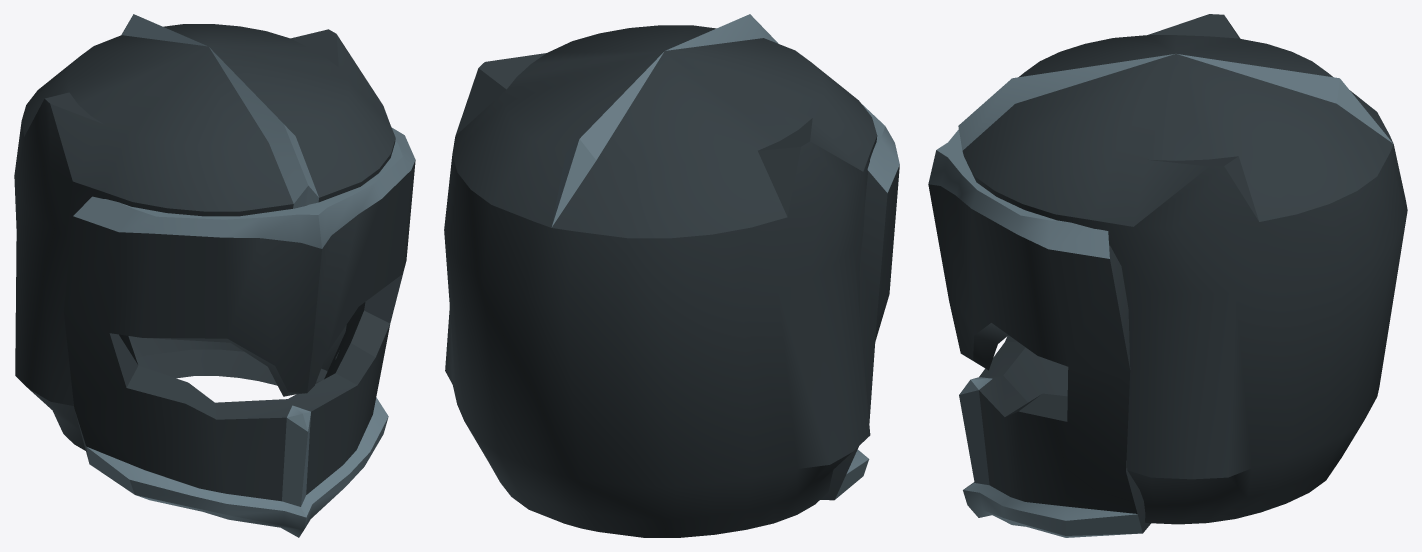
Rendered from hat_knight.fbx.
3 views of the same model, side by side, from view 1: azimuth 30°, elevation 25°; view 2: azimuth 150°, elevation 25°; view 3: azimuth 270°, elevation 25° (orthographic). The views are drawn at different scales.
Visible parts, largest first — view 1: character_knightHelmetVisor, hat_knight; view 2: hat_knight, character_knightHelmetVisor; view 3: hat_knight, character_knightHelmetVisor.
Part boxes in pixels (<box>): character_knightHelmetVisor: <box>63,127,415,537</box>; hat_knight: <box>14,14,395,450</box>; hat_knight: <box>444,14,877,537</box>; character_knightHelmetVisor: <box>820,104,899,500</box>; hat_knight: <box>958,14,1407,524</box>; character_knightHelmetVisor: <box>928,129,1150,537</box>.
Bounding box in the file's own units: 121 × 142 × 133.
